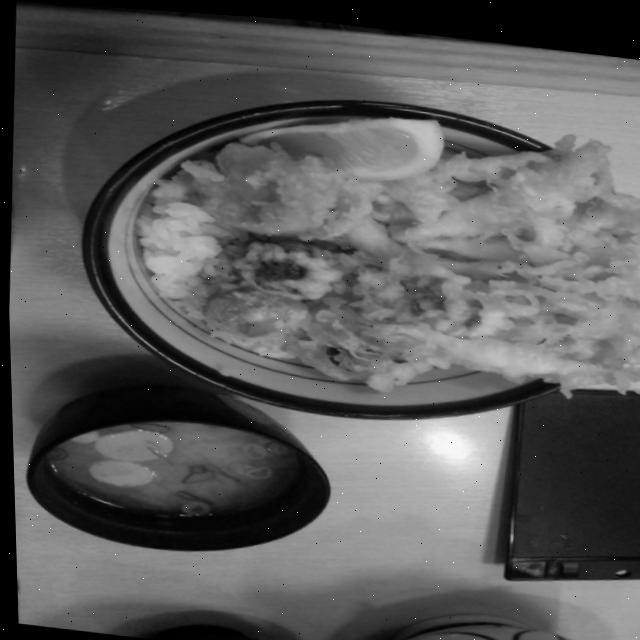汤锅炖物: (21, 393, 318, 553)
熟制海鲜: (49, 64, 640, 423)
